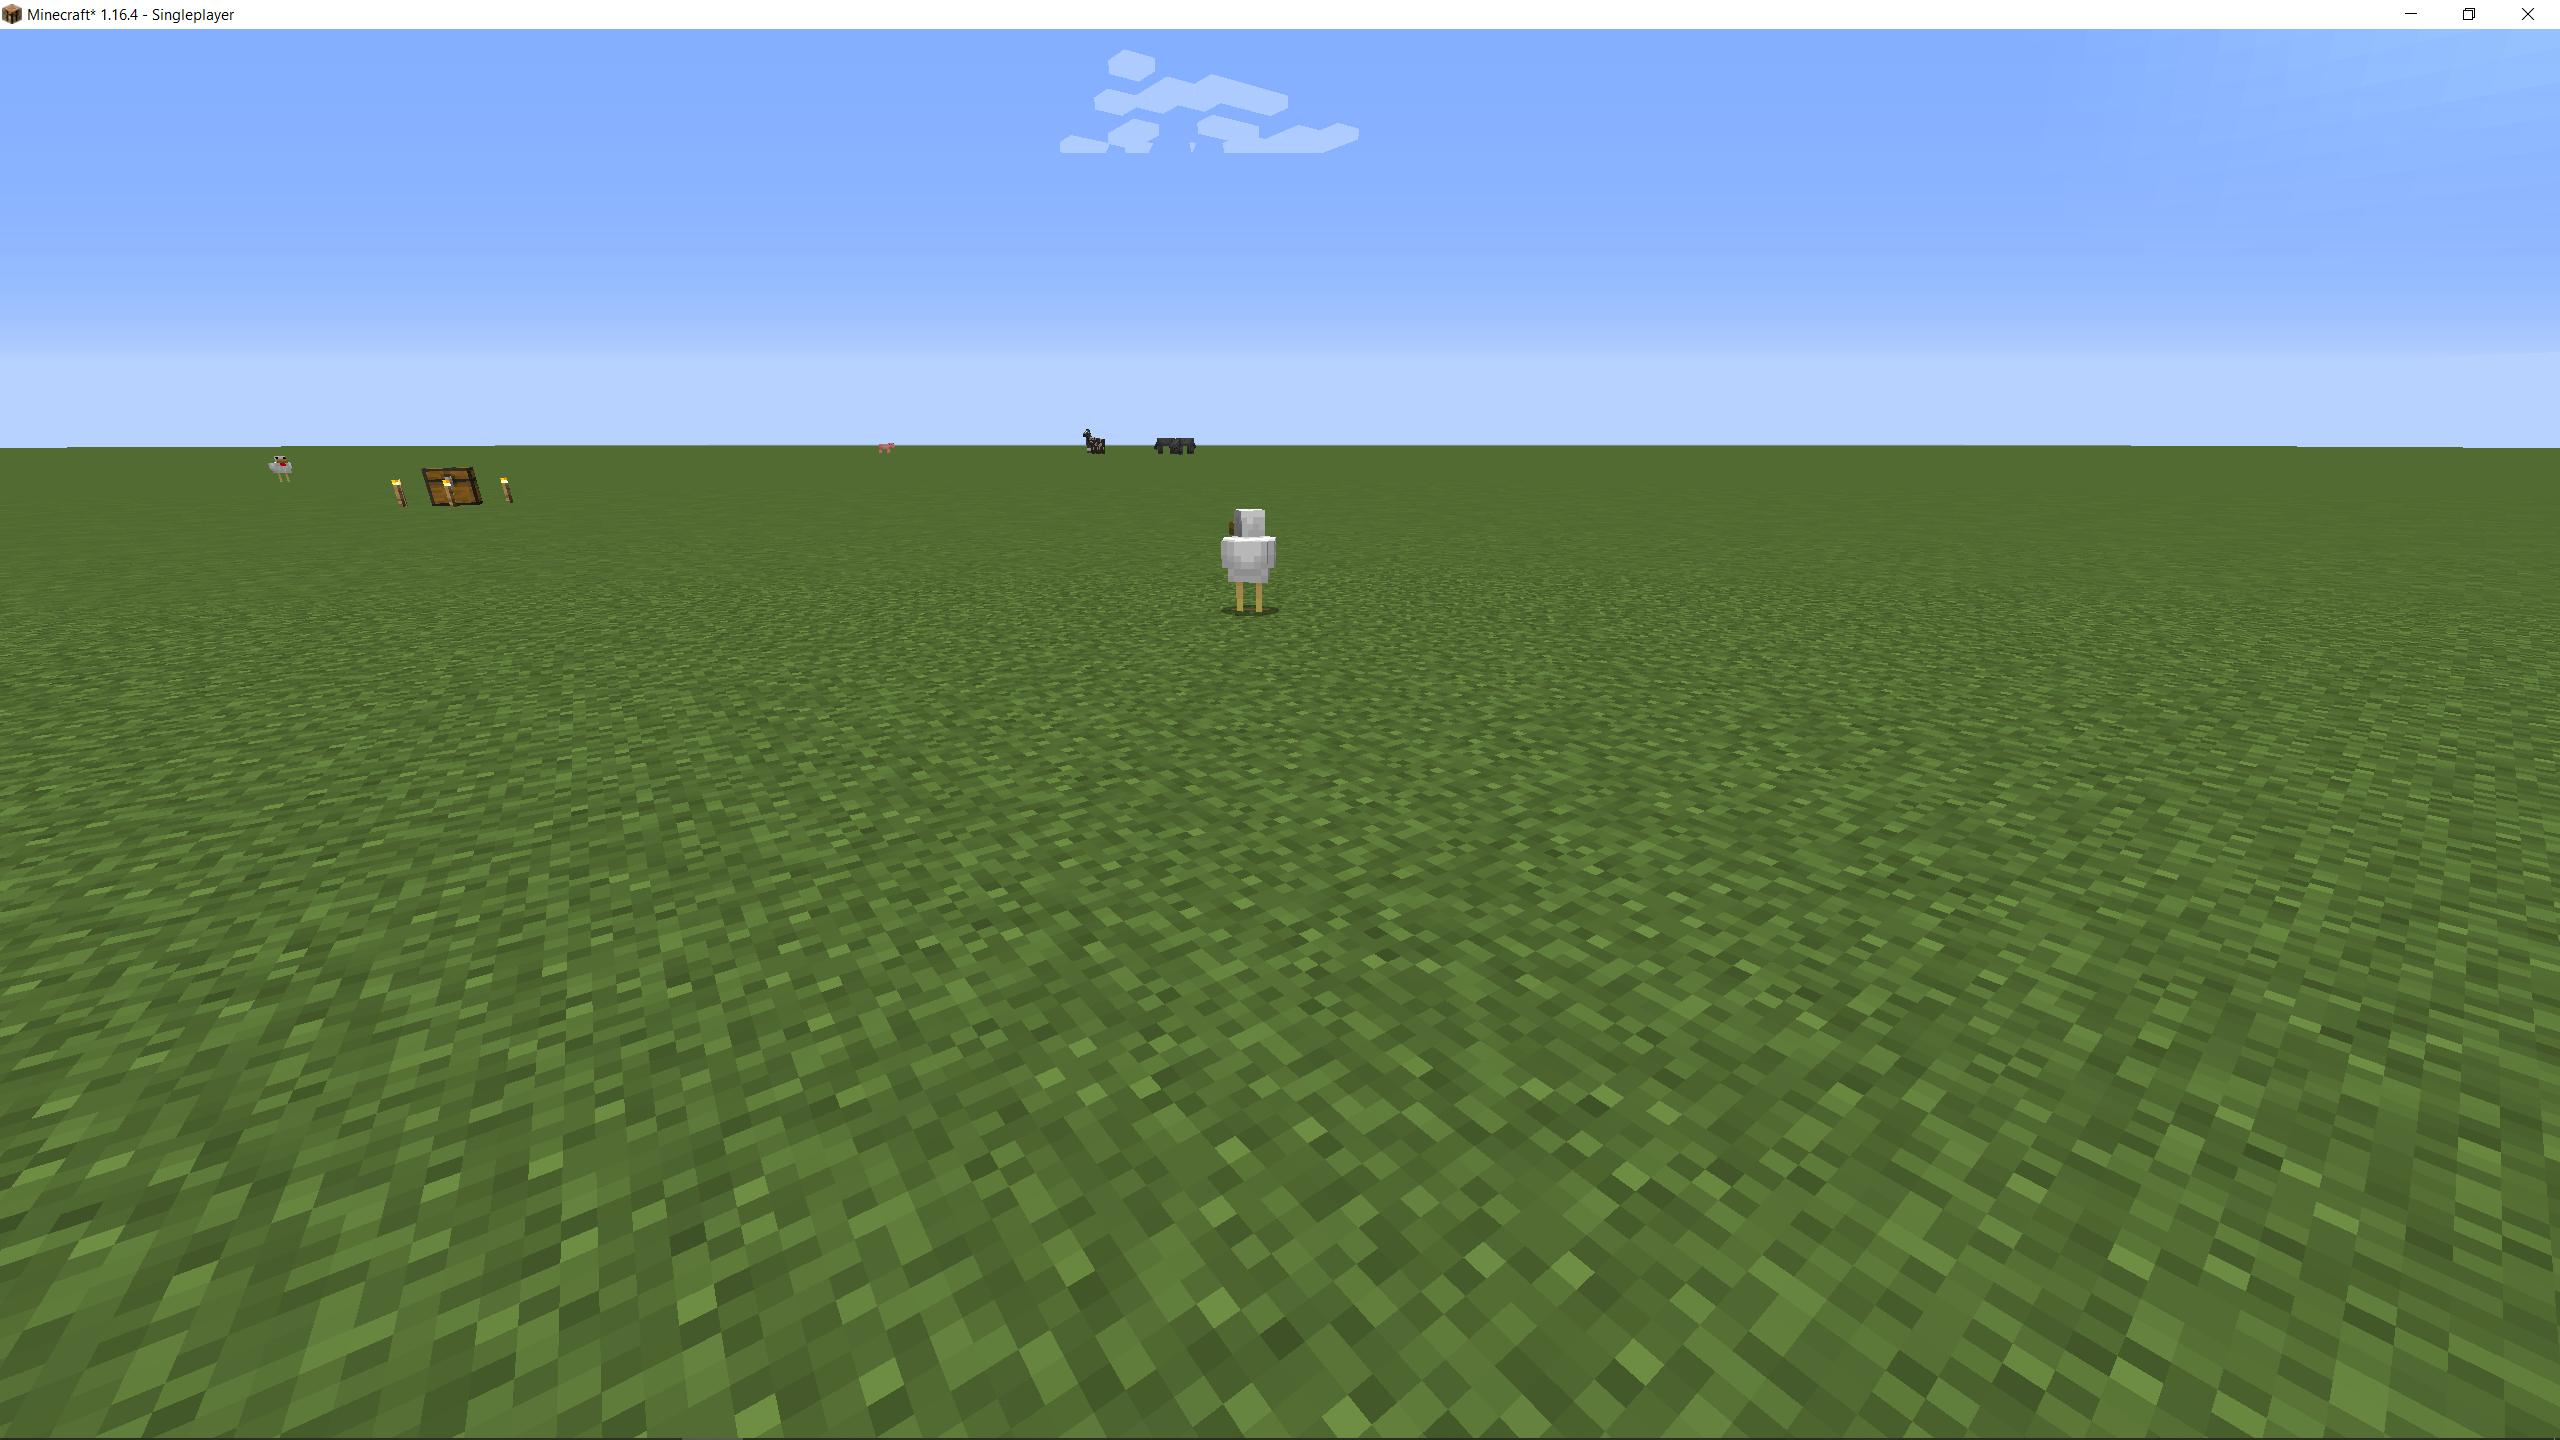chicken: (1213, 506, 1285, 614)
